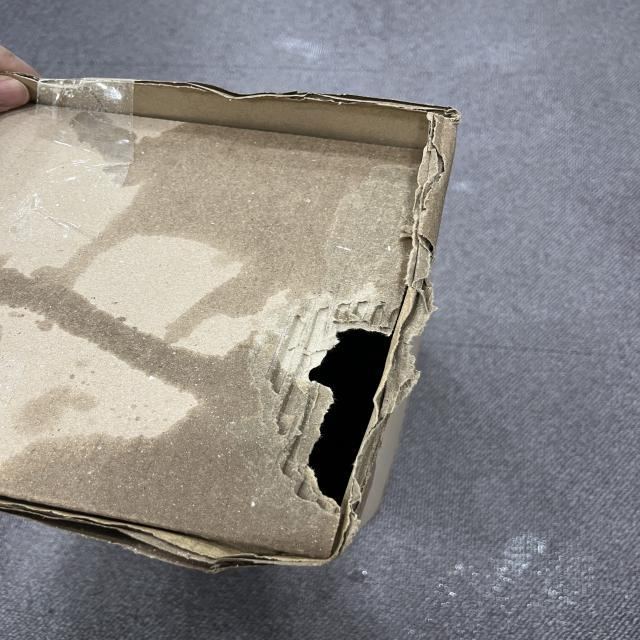hole: (281, 304, 426, 540)
wet: (16, 351, 356, 564), (98, 93, 472, 286)
